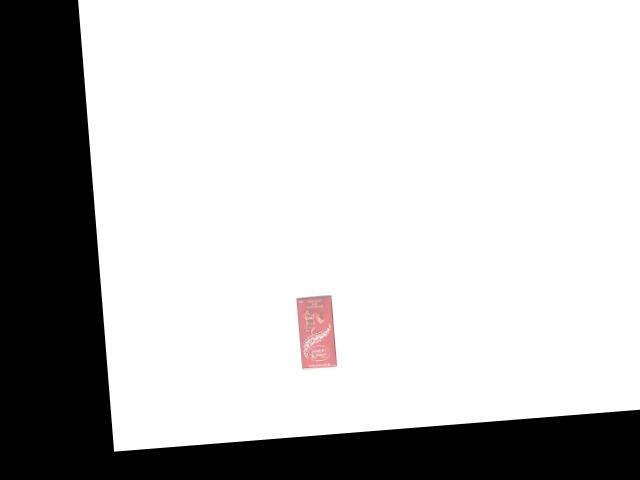chocolate: (293, 289, 338, 371)
